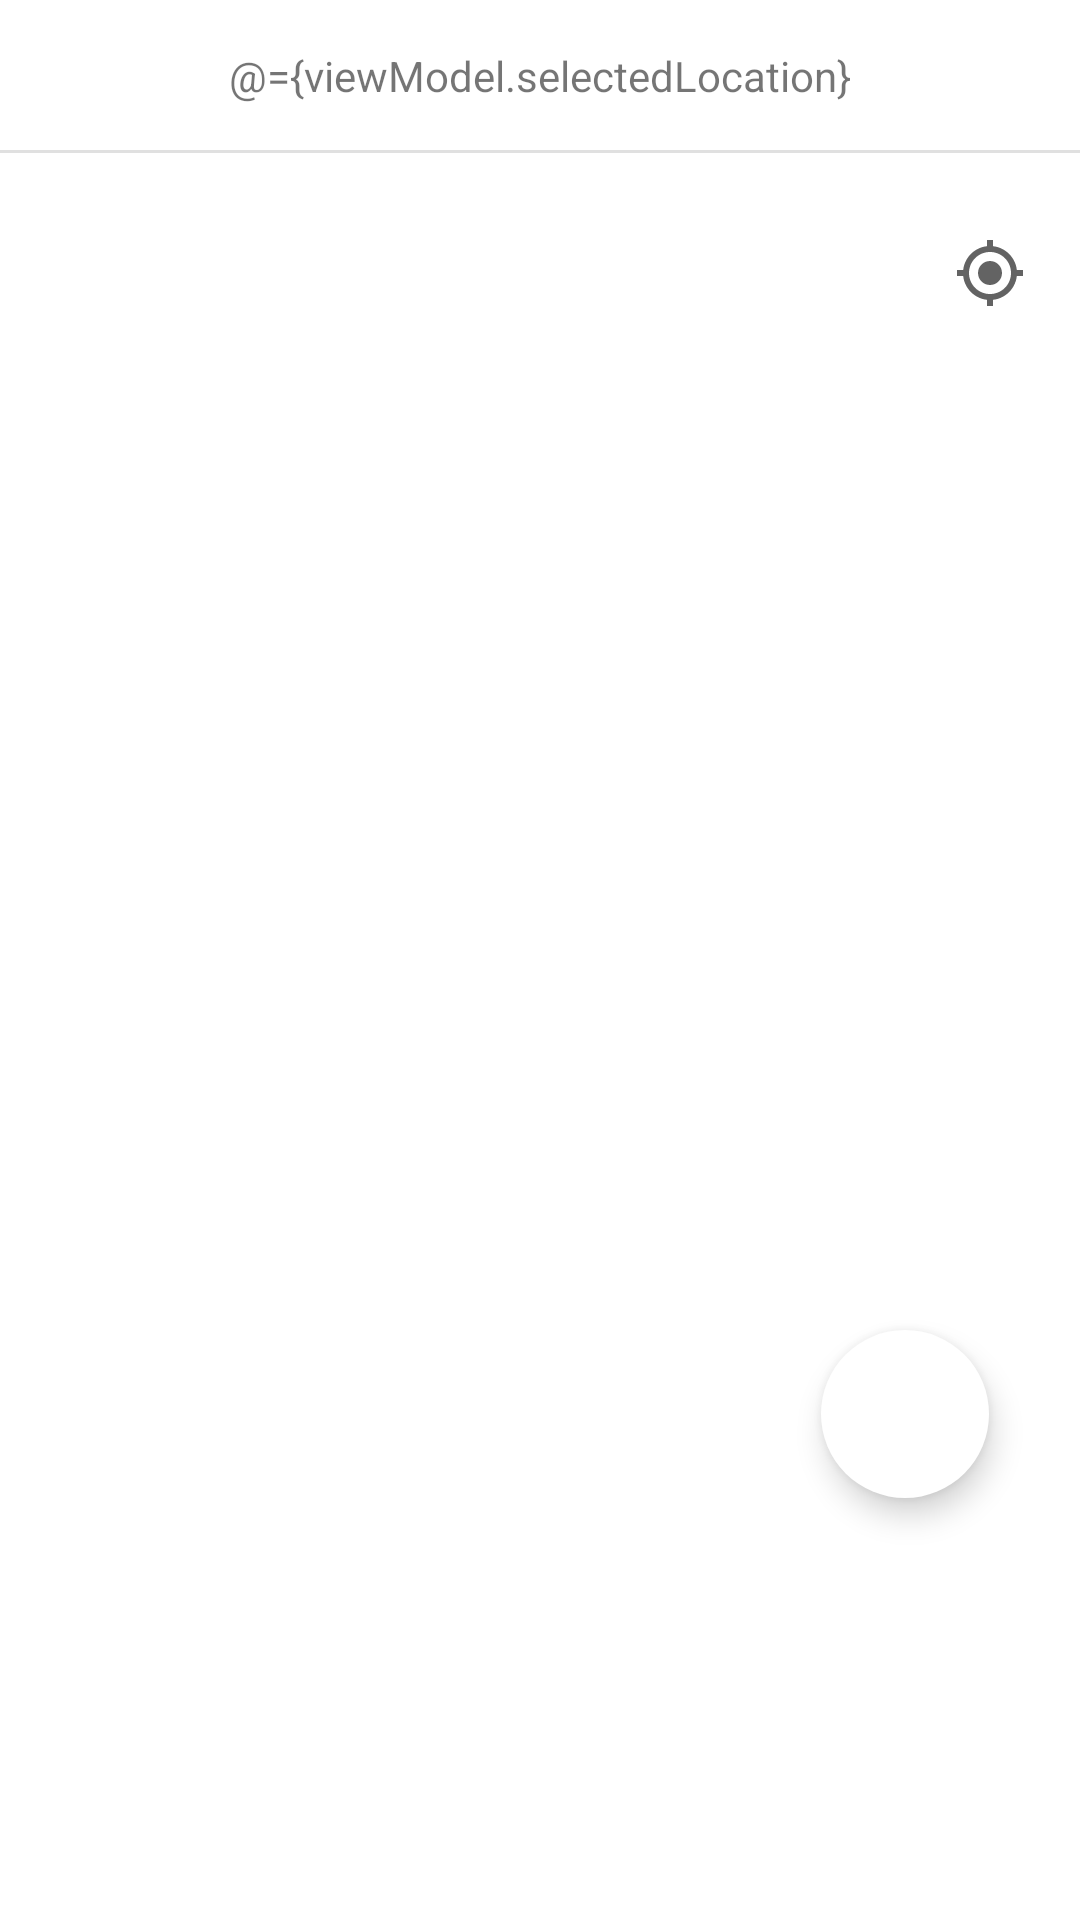

Screen size 1080 × 1920. Icon name, then its center in pixels as (x,y):
mylocation: (990,273)
